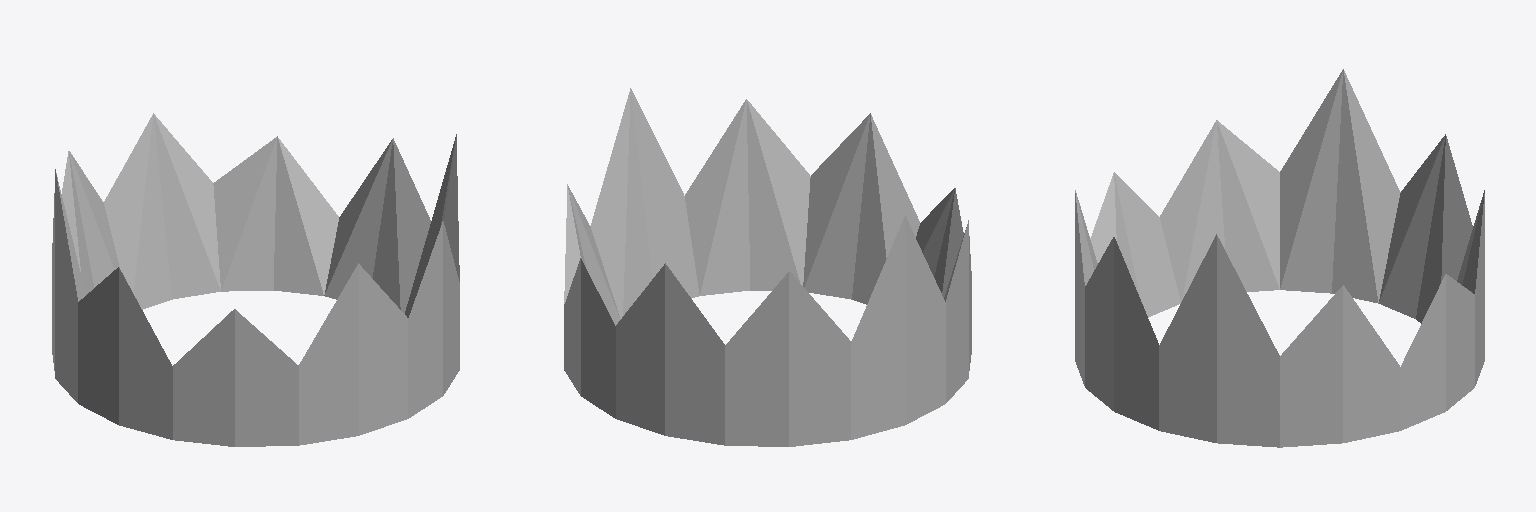
The model's file is wave2.obj.
3 renders of one model, left to right at view 1: azimuth 30°, elevation 25°; view 2: azimuth 150°, elevation 25°; view 3: azimuth 270°, elevation 25°, orthographic.
Parts seen in each view (by area): view 1: pPipe3; view 2: pPipe3; view 3: pPipe3.
Boxes of the visible parts, box(x1,y1,x2,y2) form: pPipe3: box(52, 113, 459, 446); pPipe3: box(564, 88, 971, 446); pPipe3: box(1075, 69, 1484, 447).
Bounding box in the file's own units: 2.44 × 1.38 × 2.44.